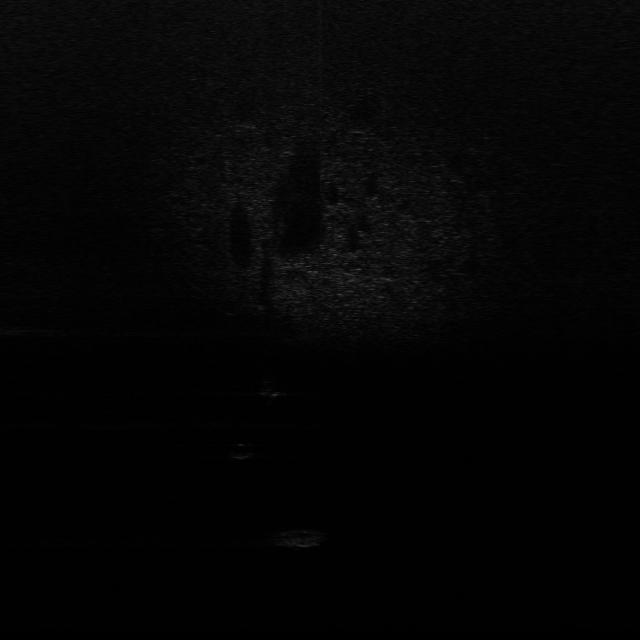ball: (231, 442, 253, 460)
circle cage: (267, 522, 329, 550)
human body: (263, 369, 287, 406)
